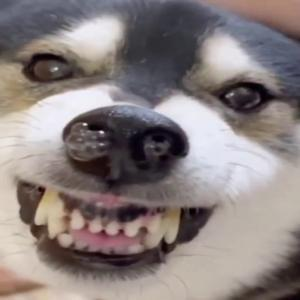nasal_discharge: (54, 104, 189, 180)
